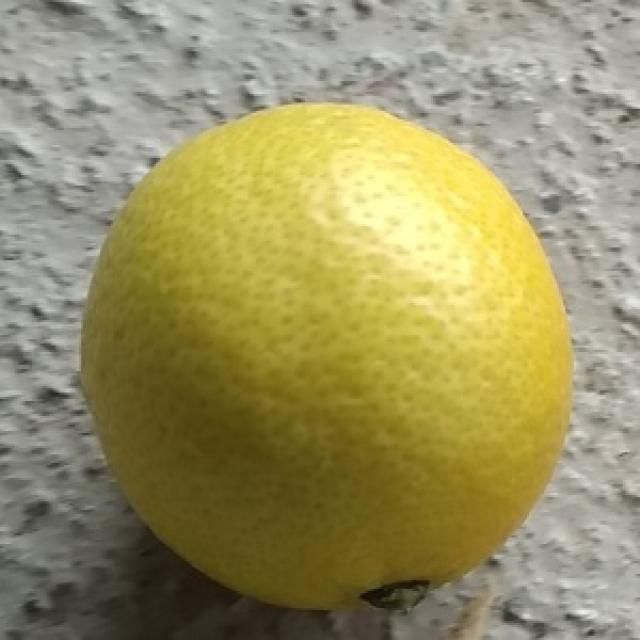Ripe: (75, 94, 580, 620)
